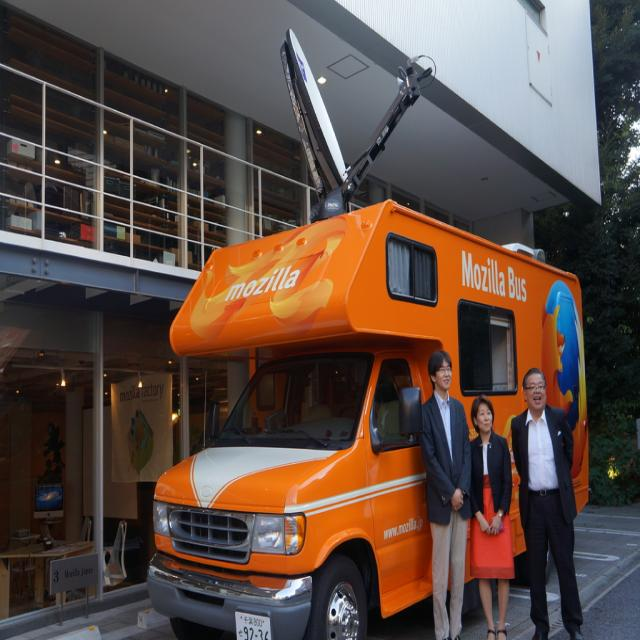Pedestrians: (512, 364, 582, 638), (418, 349, 472, 639), (469, 396, 511, 638)
